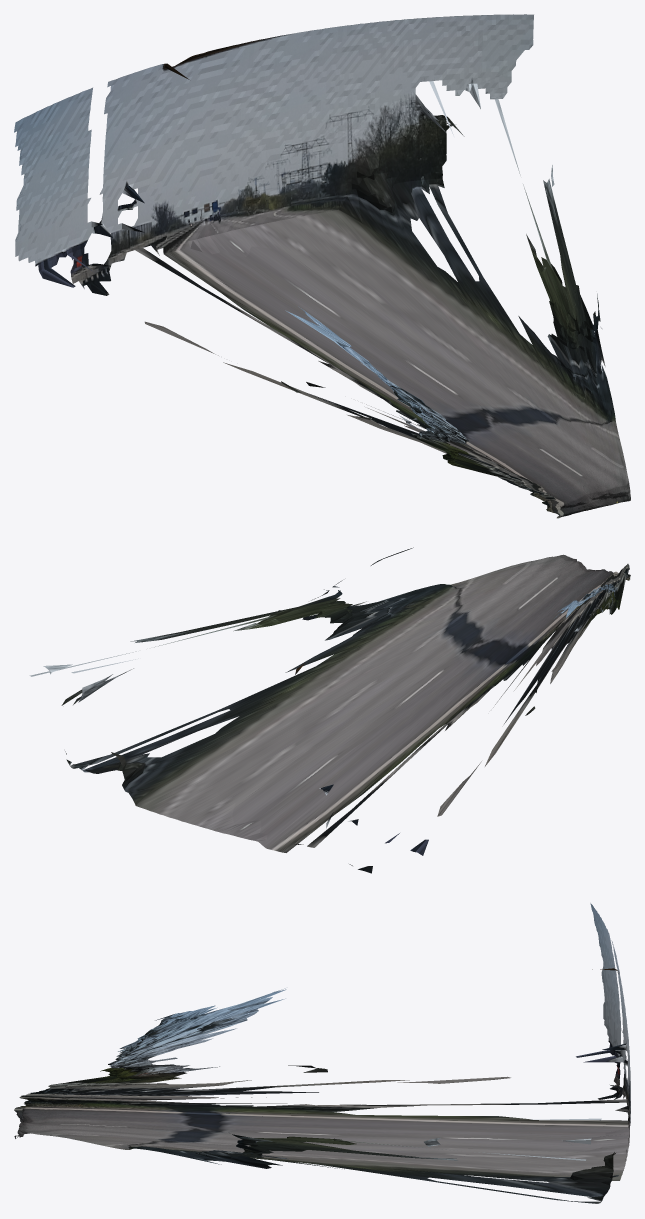
3 views of the same model, one above another, from view 1: azimuth 30°, elevation 25°; view 2: azimuth 150°, elevation 25°; view 3: azimuth 270°, elevation 25° (orthographic). The views are drawn at different scales.
Parts seen in each view (by area): view 1: defaultobject; view 2: defaultobject; view 3: defaultobject.
Part boxes in pixels (box(x1,y1,x2,y2)): defaultobject: box(14, 14, 630, 518); defaultobject: box(29, 547, 630, 873); defaultobject: box(14, 903, 630, 1203).
Bounding box in the file's own units: 33.45 × 13.12 × 44.5.
1 material, 1 textured.
